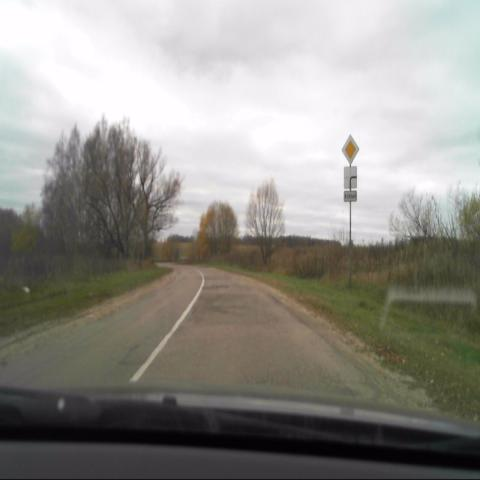8_13: (343, 166, 357, 188)
